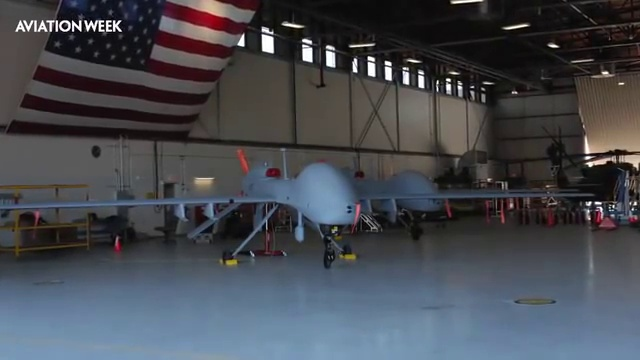military drone: (0, 147, 593, 268), (337, 153, 578, 241)
